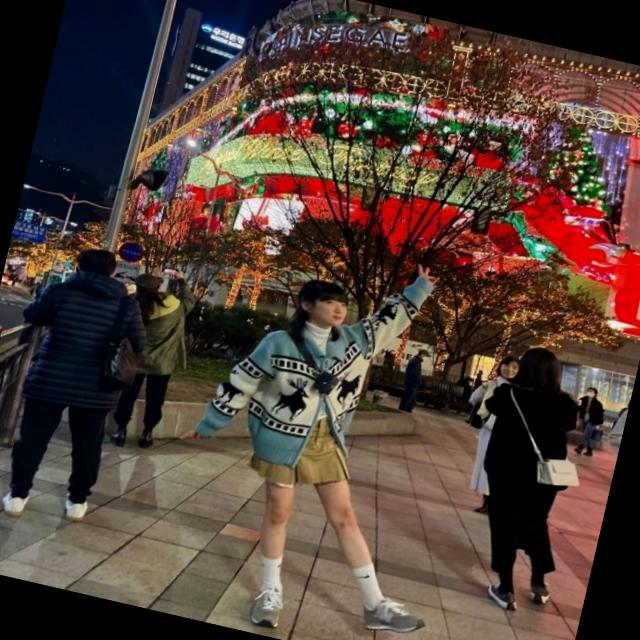cardigan: (196, 237, 436, 487)
skirt: (244, 398, 368, 502)
